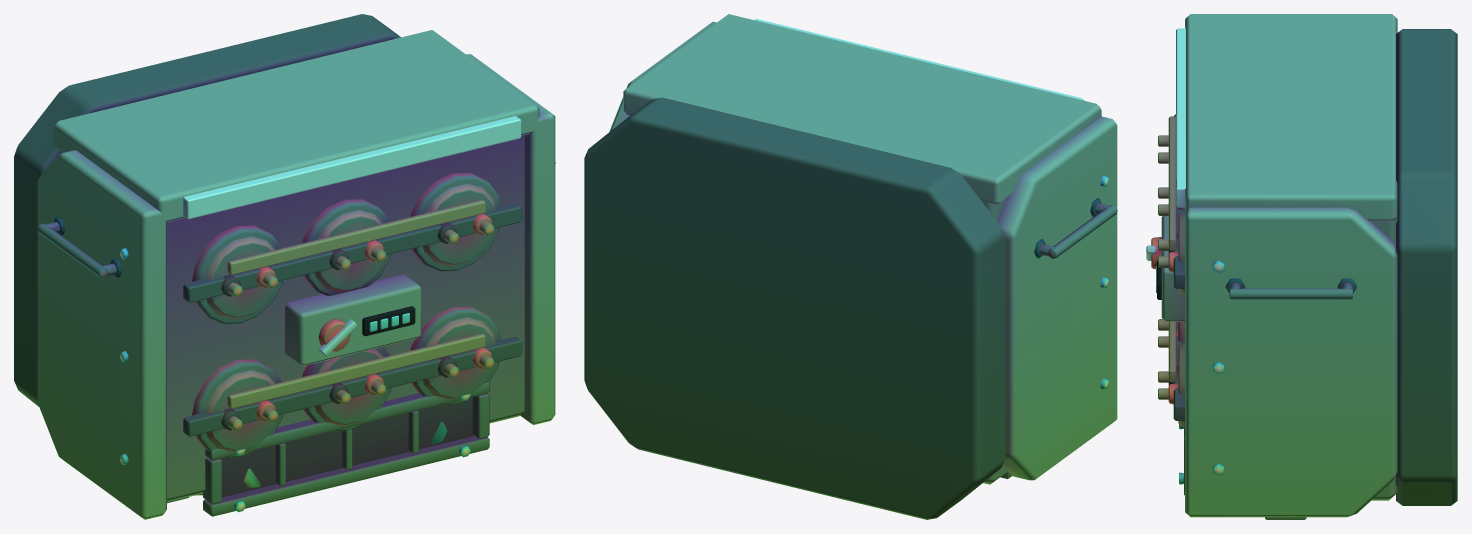
Rendered from gen_cell.glb.
3 views of the same model, side by side, from view 1: azimuth 30°, elevation 25°; view 2: azimuth 150°, elevation 25°; view 3: azimuth 270°, elevation 25° (orthographic).
Visible parts, largest first — view 1: Body__armor, Body__armor_sub, Body__dark, Body__gunmetal, Body__armor_dark, Body__copper, Body__hazard, Body__emit_red, Body__rubber, Body__chrome, Body__bore; view 2: Body__dark, Body__armor, Body__gunmetal, Body__hazard; view 3: Body__armor, Body__dark, Body__copper, Body__hazard, Body__gunmetal, Body__armor_dark, Body__armor_sub, Body__chrome, Body__emit_red.
Boxes of the visible parts, x1,y1,x2,y2 form: Body__armor: (37,30,555,519); Body__armor_sub: (60,135,524,501); Body__dark: (14,14,522,497); Body__gunmetal: (37,162,555,516); Body__armor_dark: (205,183,495,452); Body__copper: (195,199,494,495); Body__hazard: (183,116,521,219); Body__emit_red: (256,213,492,421); Body__rubber: (221,222,457,430); Body__chrome: (120,248,470,512); Body__bore: (362,306,415,336); Body__dark: (584,97,1101,519); Body__armor: (609,14,1117,480); Body__gunmetal: (1000,203,1117,479); Body__hazard: (754,18,1083,100); Body__armor: (1161,14,1397,517); Body__dark: (1173,29,1457,505); Body__copper: (1158,116,1176,399); Body__hazard: (1176,28,1185,207); Body__gunmetal: (1184,282,1352,519); Body__armor_dark: (1178,207,1184,427); Body__armor_sub: (1371,217,1397,500); Body__chrome: (1146,245,1224,484); Body__emit_red: (1151,237,1178,404).
Bounding box in the file's own units: 0.93 × 0.6812 × 0.556.
